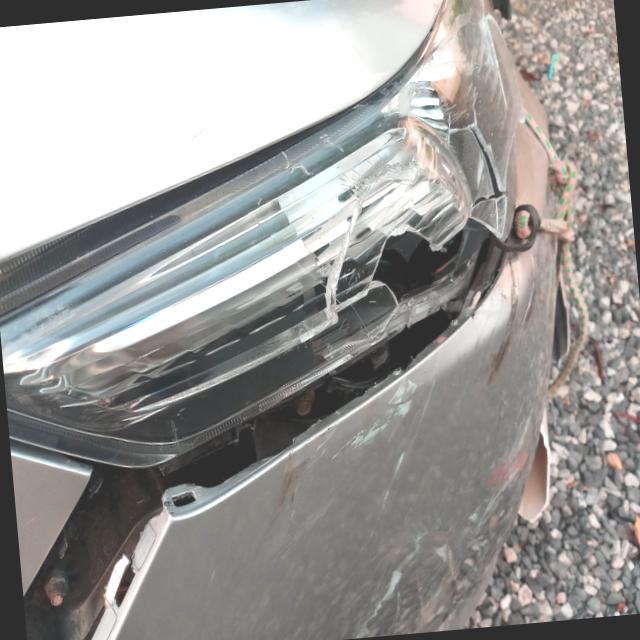Dechirure: (0, 214, 537, 640)
Phare abime: (293, 136, 497, 393)
Rayure: (170, 25, 338, 154)
